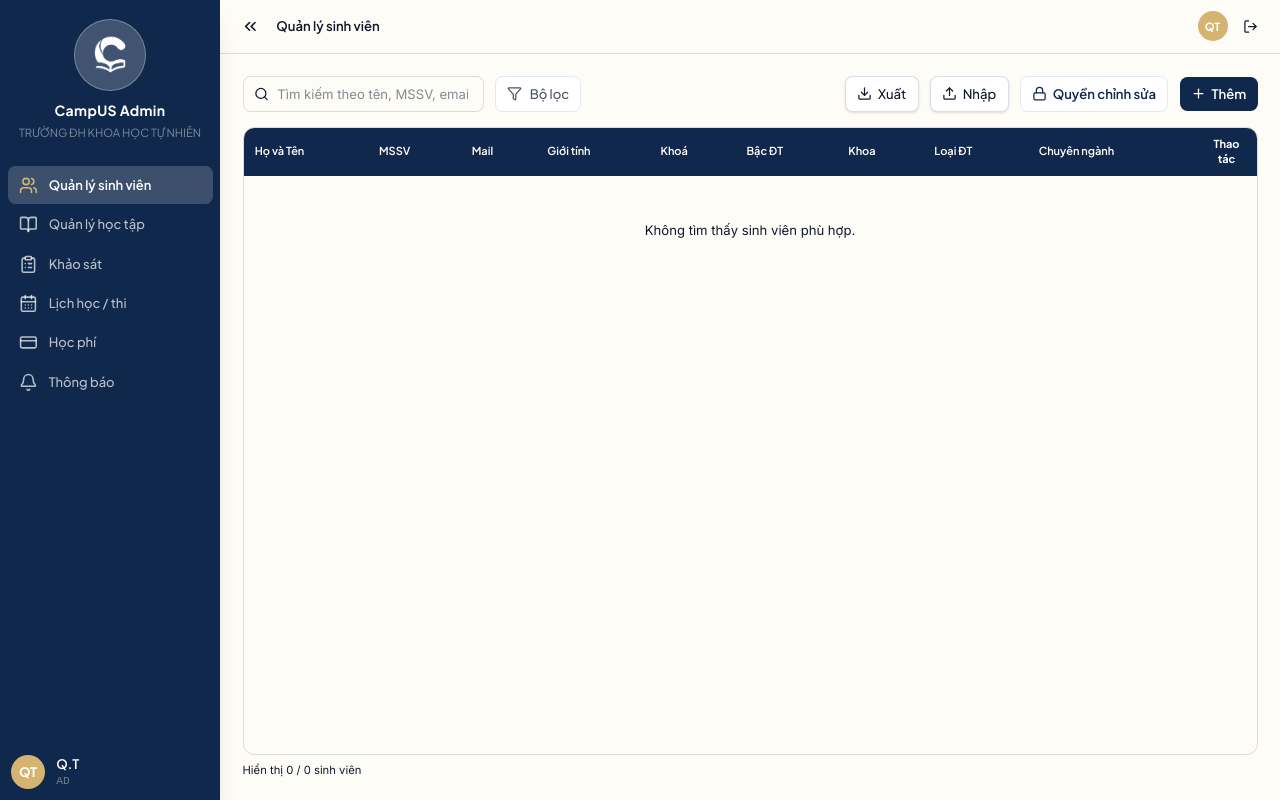
Test: Unit Test: Create & Deploy Surveys (UC 2.24) › [TC_2.24_04]: Verify survey results and breakdown rendering
Click the button "Khảo sát" at point(110, 264), box left=8, top=245, right=212, bottom=283
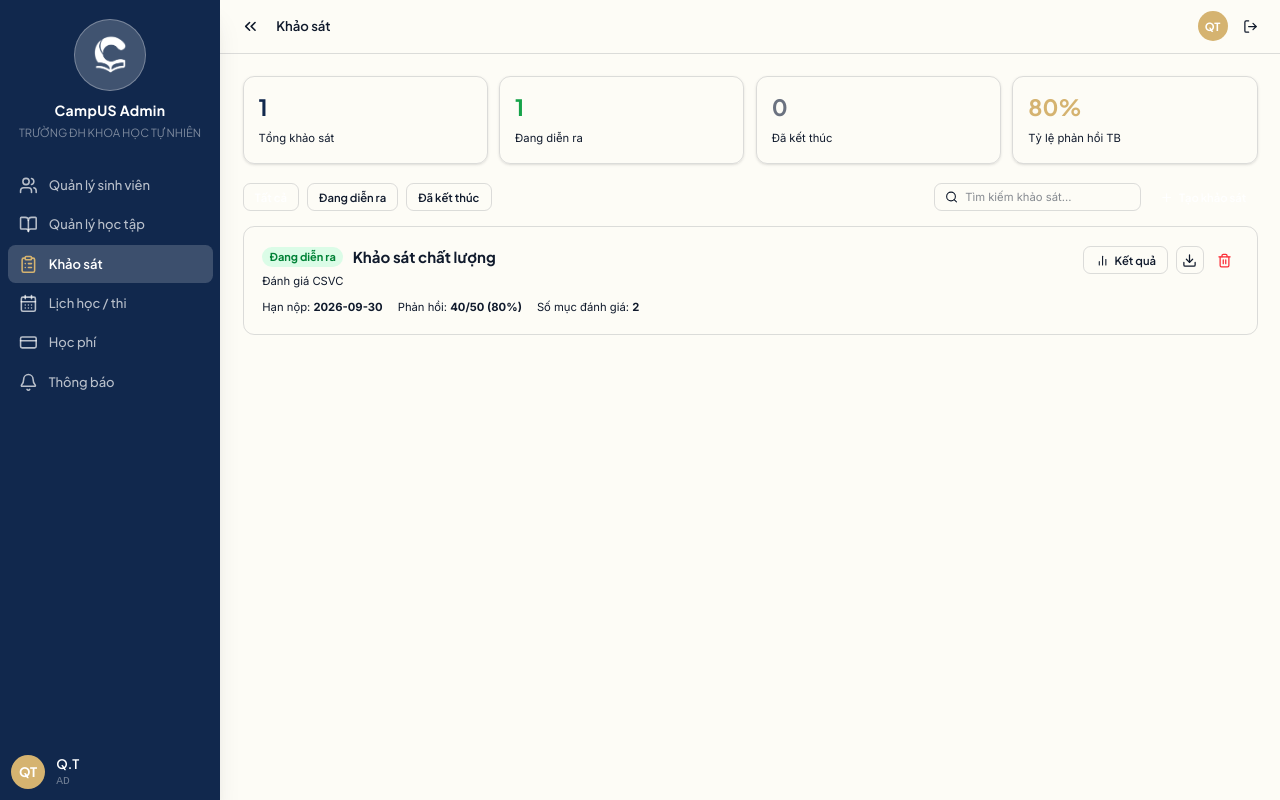
Click the button "Kết quả" at point(1126, 260), box left=1083, top=246, right=1168, bottom=274
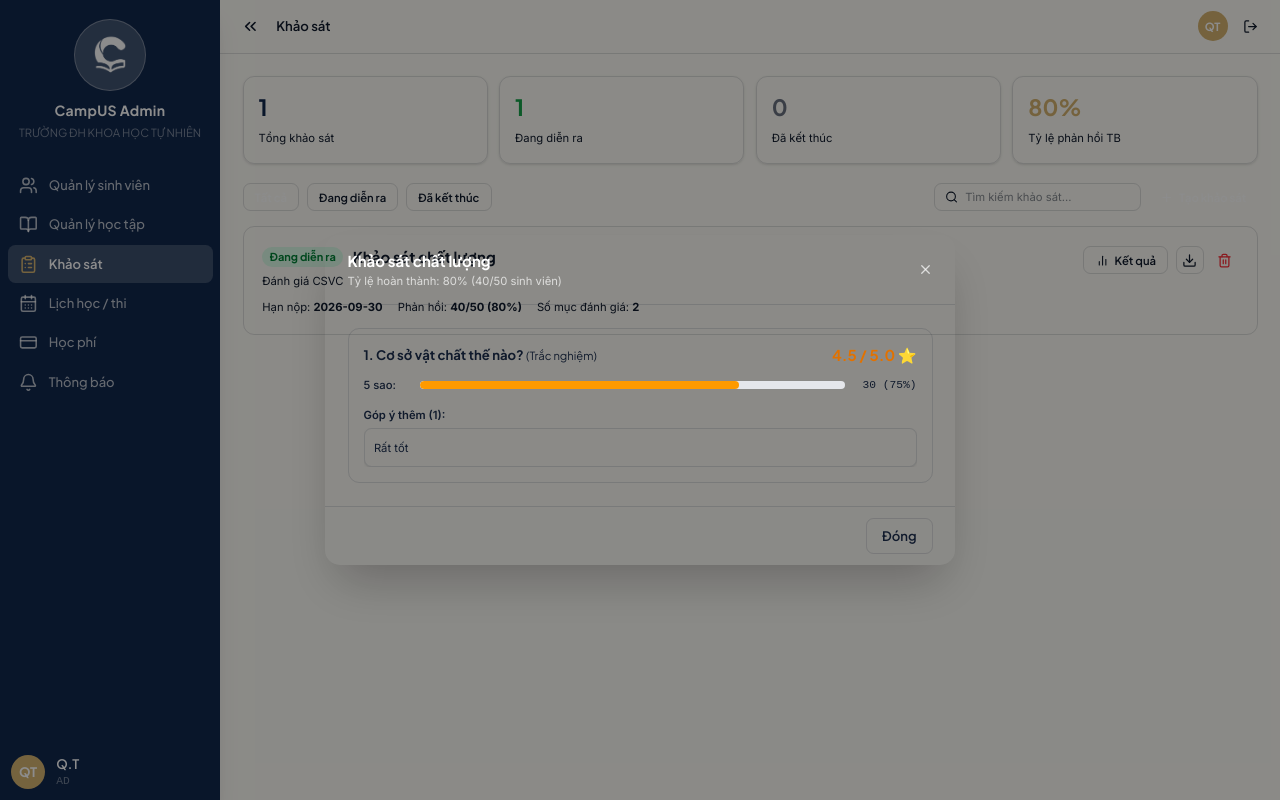
Result: the text "4.5 / 5.0 ⭐" is shown at left=832, top=344, right=916, bottom=366
Result: the text "Rất tốt" is shown at left=364, top=428, right=916, bottom=467
